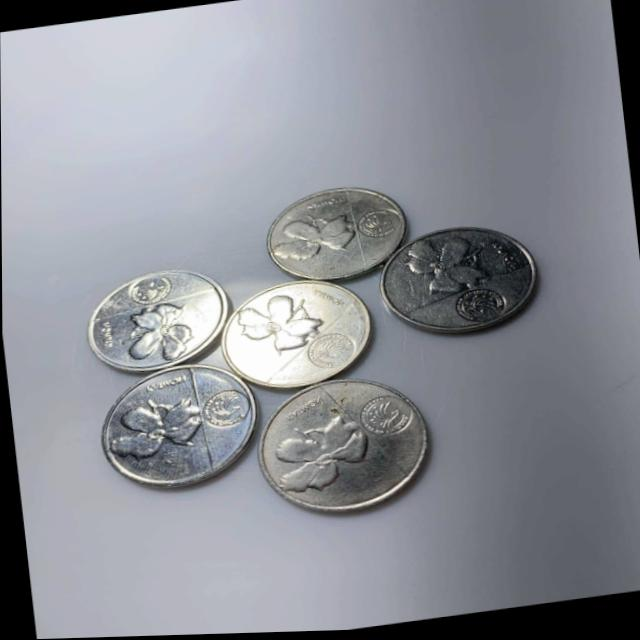25Cent_New_Back: (257, 399, 380, 507), (97, 377, 215, 476), (217, 281, 331, 361), (105, 291, 210, 375), (384, 229, 494, 308), (265, 202, 364, 282)
